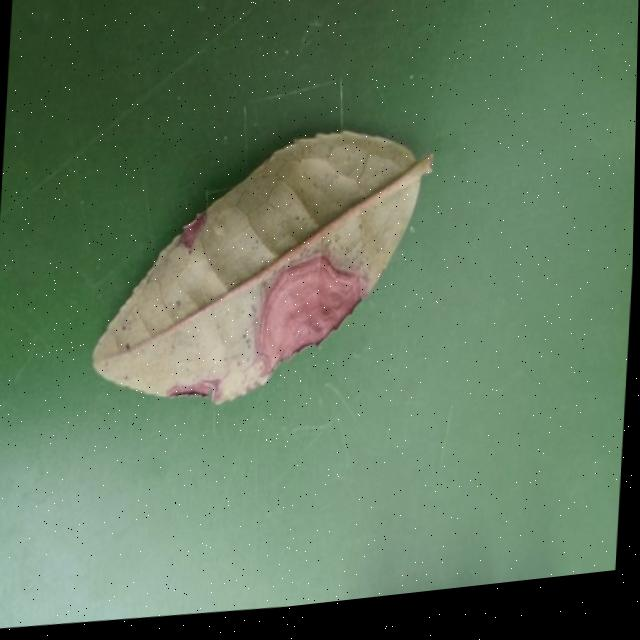Tea cloud leaf blight: (247, 265, 366, 397)
